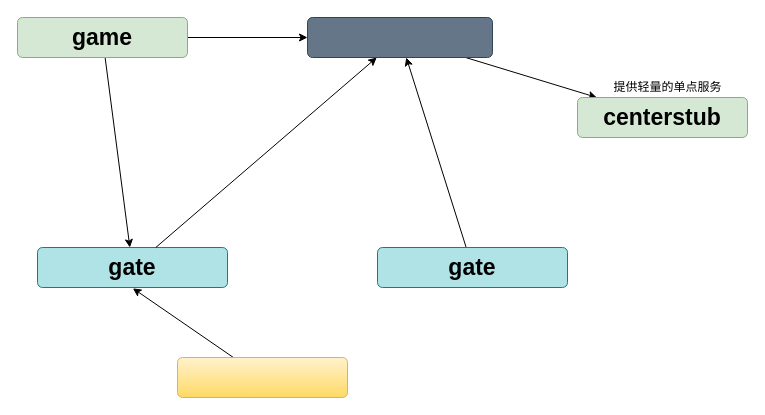
The diagram is 765 pixels wide and 415 high, and some of its shapes have lost their labels. The centre of each missing label's shape, as x and y in pixels:
"clients" belongs at point (262, 377).
"world(router)" belongs at point (399, 37).
